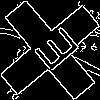E: (25, 25, 82, 80)
